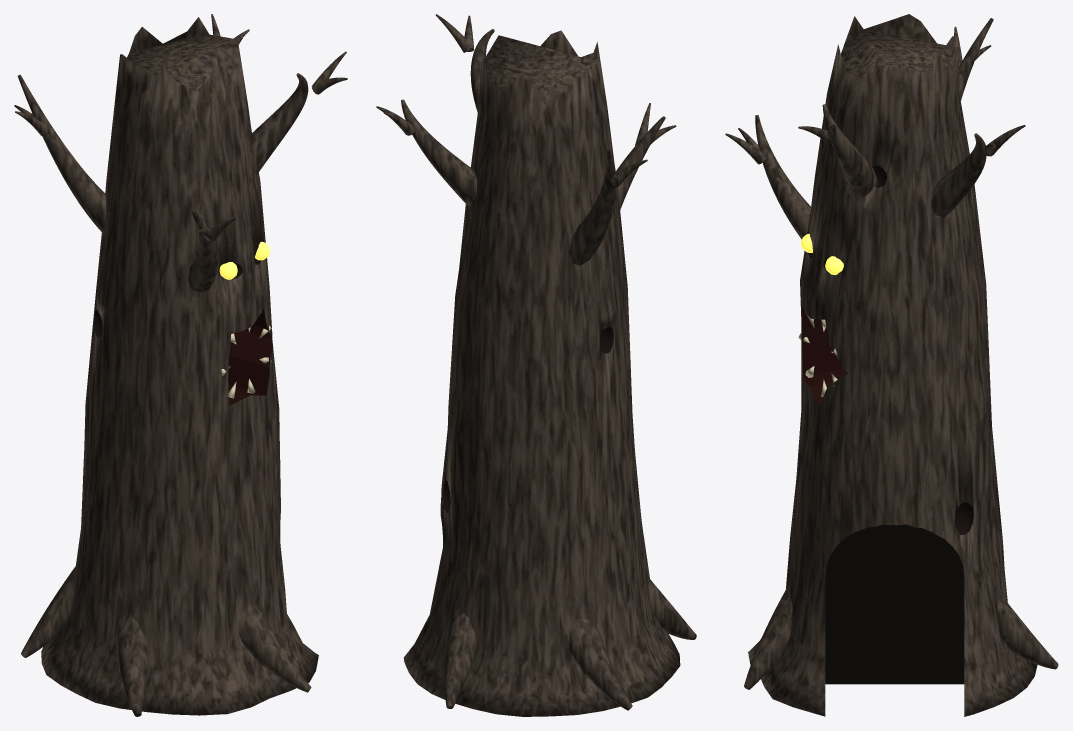
The model's file is haunted-tree.glb.
The picture shows the model from 3 angles, left to right: view 1: azimuth 30°, elevation 25°; view 2: azimuth 150°, elevation 25°; view 3: azimuth 270°, elevation 25°; orthographic projection. The views are drawn at different scales.
Visible parts, largest first — view 1: trunk, limbs; view 2: trunk, limbs; view 3: trunk, limbs.
Boxes of the visible parts, x1,y1,x2,y2 form: trunk: (41, 17, 318, 715); limbs: (14, 14, 347, 716); trunk: (403, 30, 680, 716); limbs: (376, 14, 696, 710); trunk: (748, 14, 1037, 716); limbs: (725, 18, 1058, 689).
Bounding box in the file's own units: 6.95 × 15 × 7.18.
7 materials, 2 textured.
